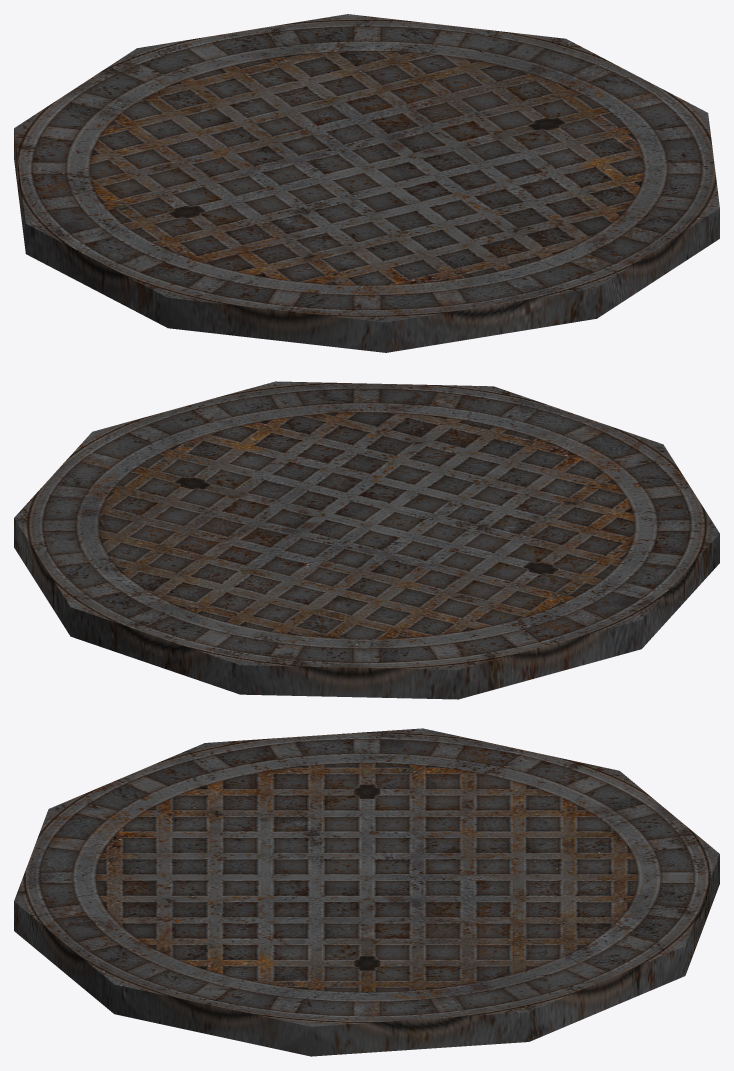
Rendered from Road_well_LOD1.fbx.
3 renders of one model, top to bottom at view 1: azimuth 30°, elevation 25°; view 2: azimuth 150°, elevation 25°; view 3: azimuth 270°, elevation 25°, orthographic. The views are drawn at different scales.
Visible parts, largest first — view 1: pCylinder17; view 2: pCylinder17; view 3: pCylinder17.
Part boxes in pixels (left/top/right/bottom): pCylinder17: left=14, top=14, right=719, bottom=352; pCylinder17: left=14, top=381, right=719, bottom=699; pCylinder17: left=14, top=728, right=719, bottom=1056.
Size of the model in its own units: 1.43 by 0.0666 by 1.43.
